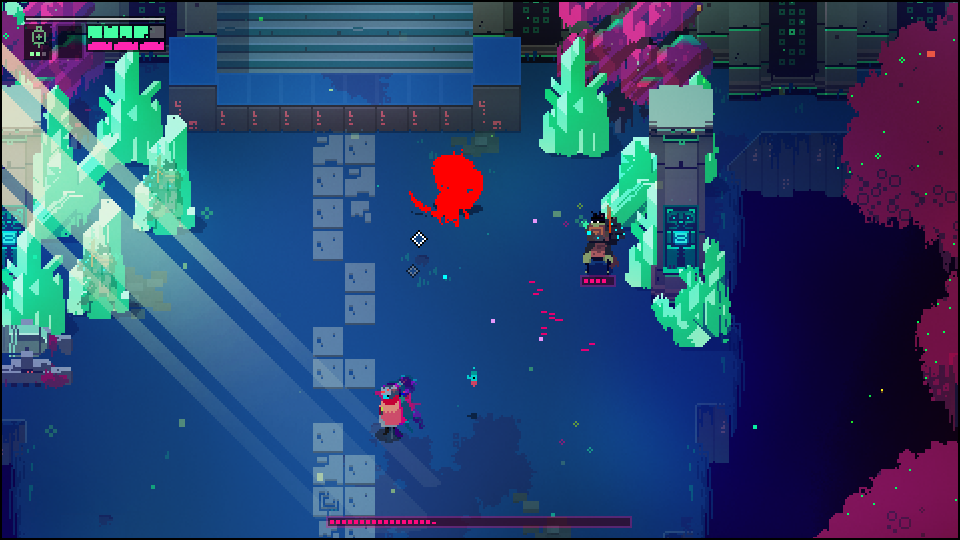hanged_man: (412, 153, 483, 225)
player: (376, 381, 408, 438)
